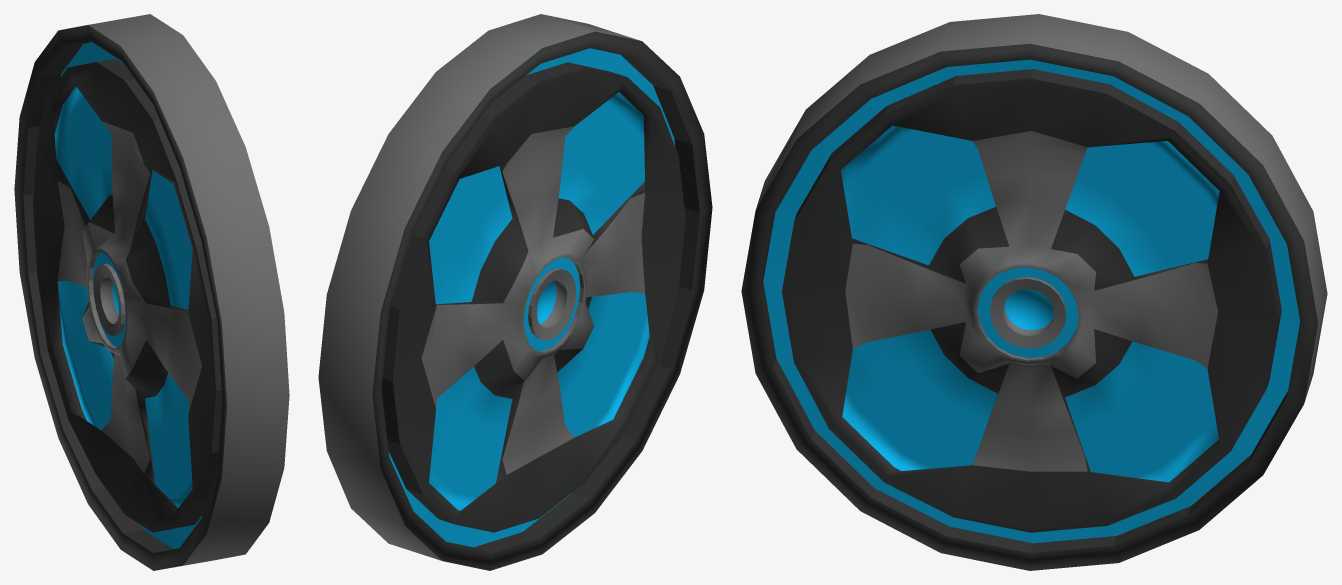
The model's file is Shield_pickup.fbx.
3 renders of one model, left to right at view 1: azimuth 30°, elevation 25°; view 2: azimuth 150°, elevation 25°; view 3: azimuth 270°, elevation 25°, orthographic. The views are drawn at different scales.
Parts seen in each view (by area): view 1: Shield; view 2: Shield; view 3: Shield.
Boxes of the visible parts, box(x1,y1,x2,y2) form: Shield: box(14, 14, 289, 570); Shield: box(318, 14, 712, 570); Shield: box(741, 14, 1327, 570).
Bounding box in the file's own units: 1.71 × 6.8 × 6.85.
